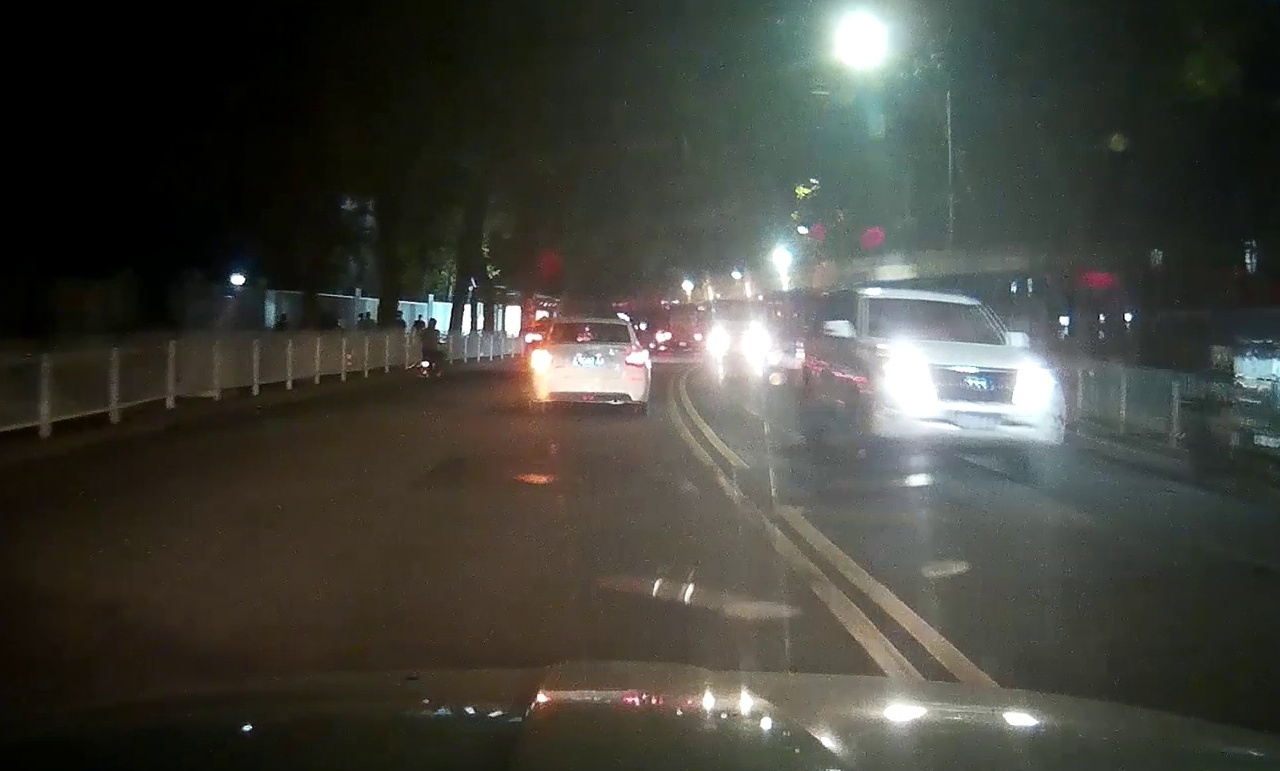L_light: (533, 353, 552, 367)
R_light: (625, 352, 646, 365)
T_light: (585, 323, 600, 327)
night-right: (531, 319, 650, 415)
